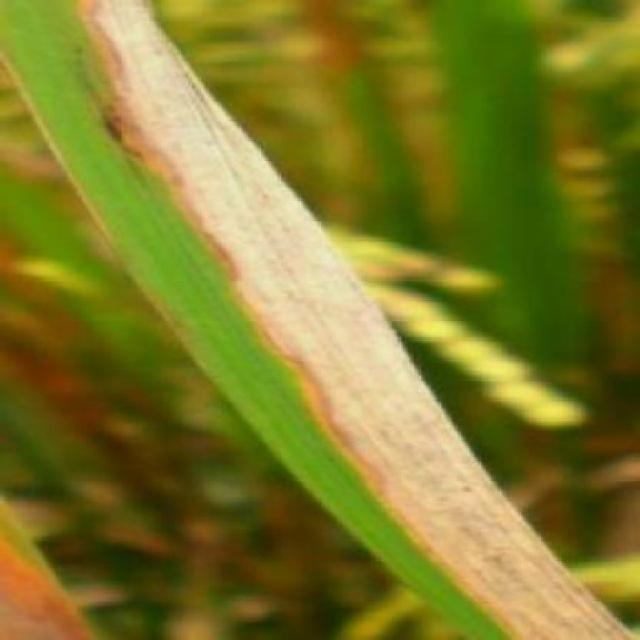Brown_Spot: (134, 80, 446, 580), (520, 592, 638, 640)
